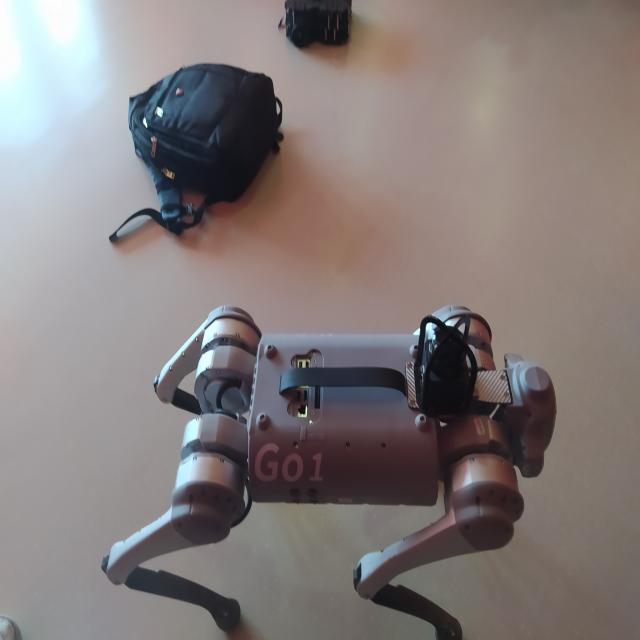unitree-go1-robot: (106, 310, 561, 640)
